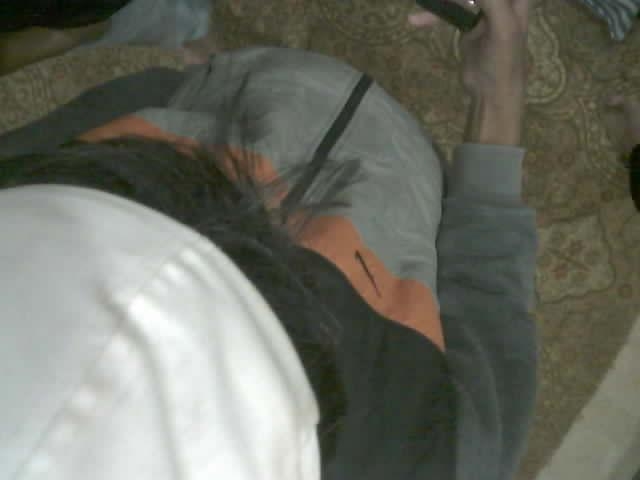cap: (0, 185, 320, 479)
